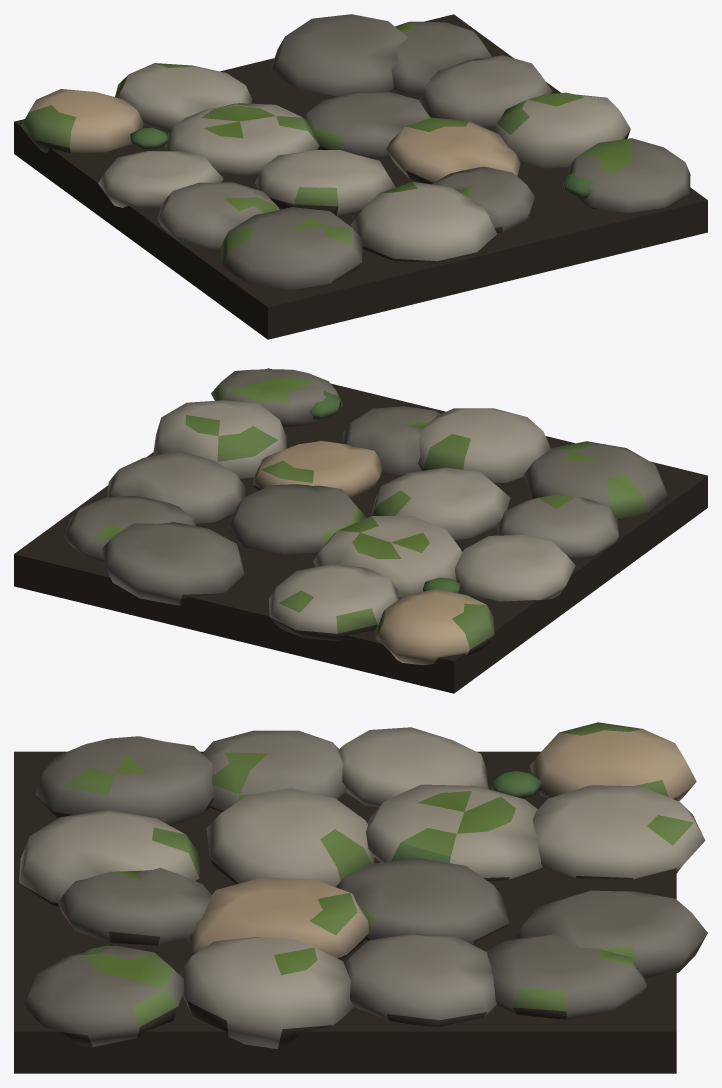
File: kit_floor3.glb
The picture shows the model from 3 angles, top to bottom: view 1: azimuth 30°, elevation 25°; view 2: azimuth 150°, elevation 25°; view 3: azimuth 270°, elevation 25°; orthographic projection. The views are drawn at different scales.
Parts seen in each view (by area): view 1: kit_floor3; view 2: kit_floor3; view 3: kit_floor3.
Boxes of the visible parts, box(x1,y1,x2,y2) form: kit_floor3: box(14, 14, 707, 339); kit_floor3: box(14, 368, 707, 693); kit_floor3: box(14, 722, 707, 1073).
Bounding box in the file's own units: 1.05 × 0.1428 × 1.05.
